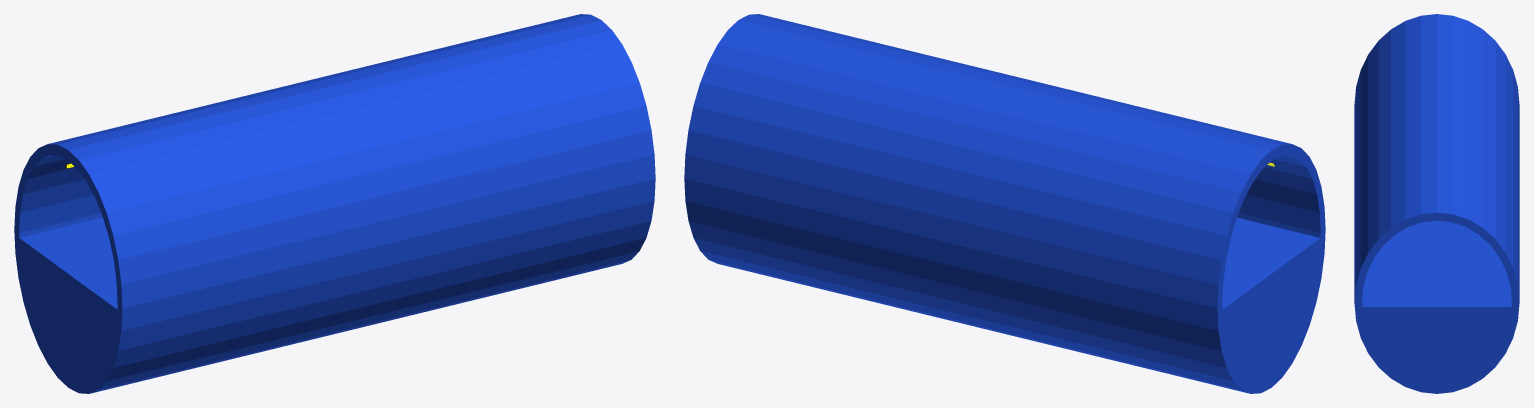
File: TunnelGoal.fbx
3 renders of one model, left to right at view 1: azimuth 30°, elevation 25°; view 2: azimuth 150°, elevation 25°; view 3: azimuth 270°, elevation 25°, orthographic. The views are drawn at different scales.
Visible parts, largest first — view 1: wall; view 2: wall; view 3: wall.
Part boxes in pixels (bbox=[...]): wall: bbox=[14, 14, 655, 393]; wall: bbox=[684, 14, 1325, 393]; wall: bbox=[1354, 14, 1519, 393].
Bounding box in the file's own units: 2063 × 879 × 725.
